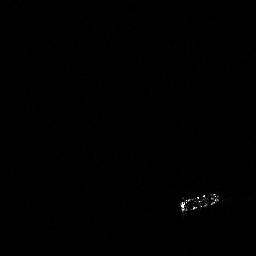ship: (180, 191, 220, 213)
